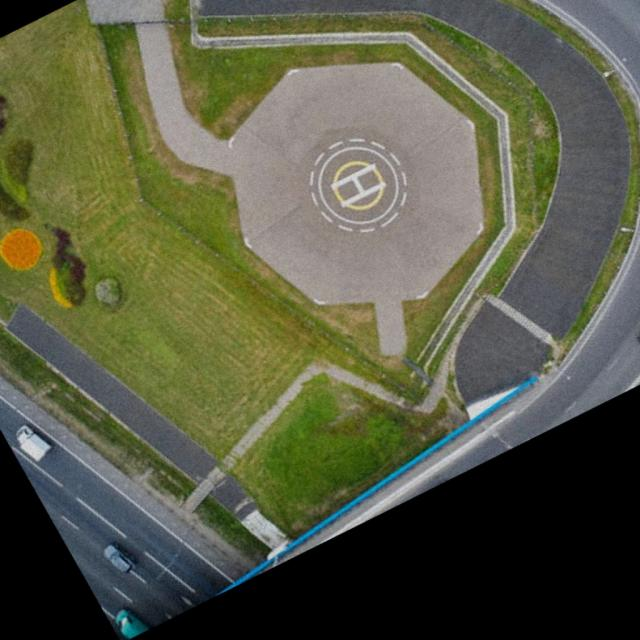helipad: (314, 143, 402, 226)
